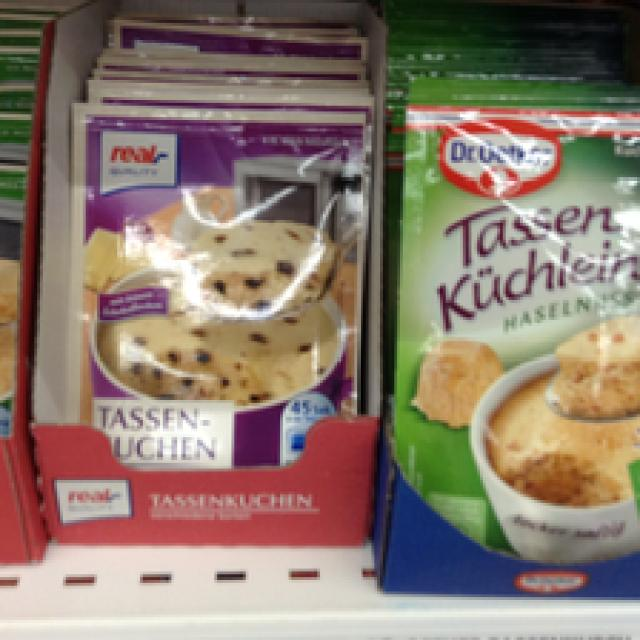groceries: (63, 94, 371, 486), (394, 71, 637, 563)
